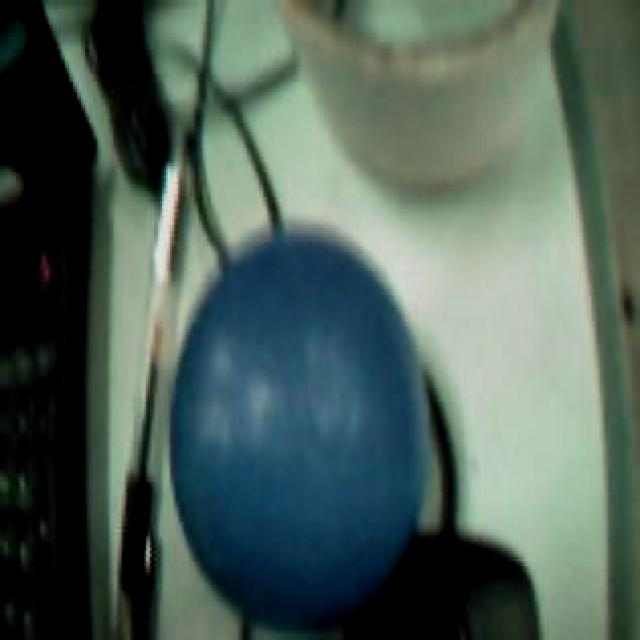BallPurple: (168, 234, 430, 626)
